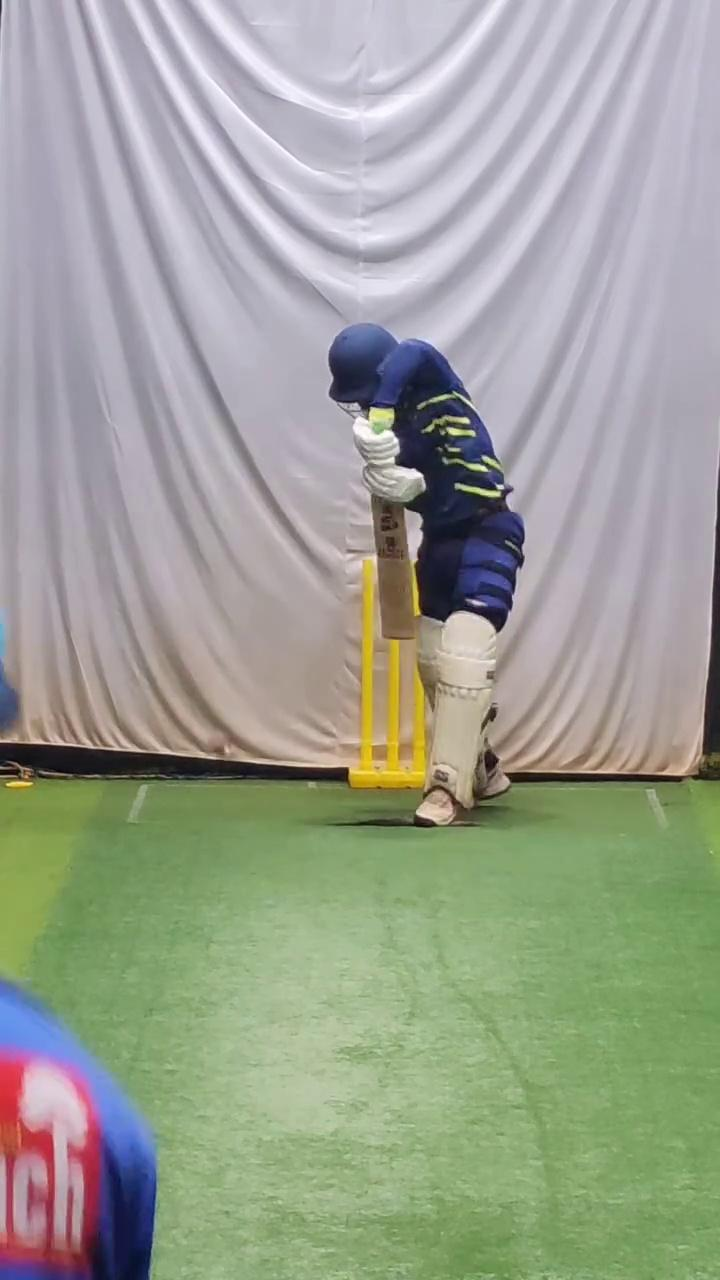bat: (372, 494, 415, 641)
